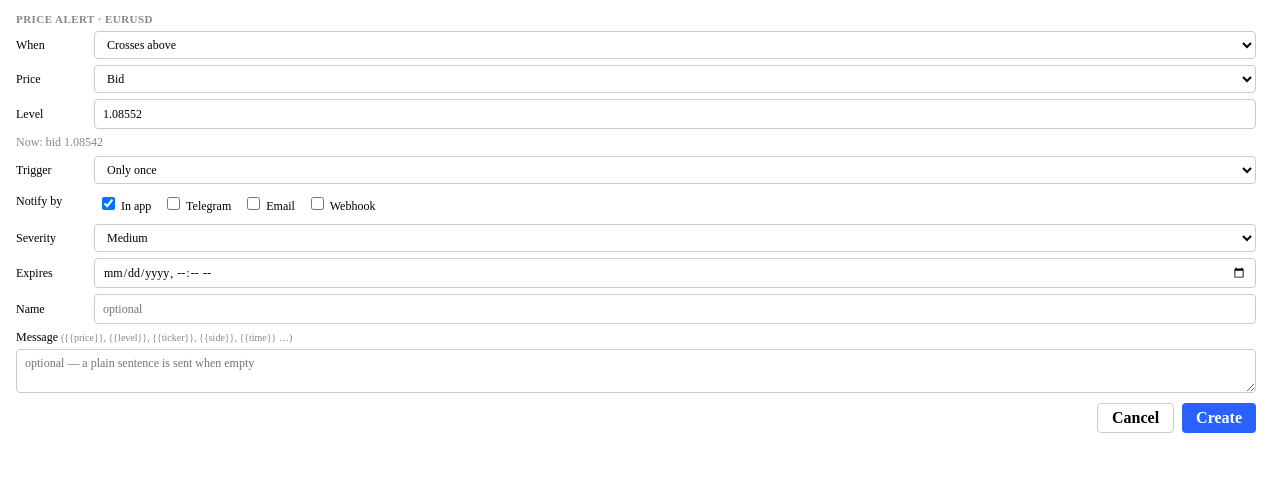
Test: ChartAlertFormComponent › refuses a level the price has already reached, in the engine’s words (SP-02)
This screenshot has width=1273, height=483.
Replace the text in the number field with test id "caf-level" with "1.0854". click: x=675, y=114
box: [94,99,1256,129]
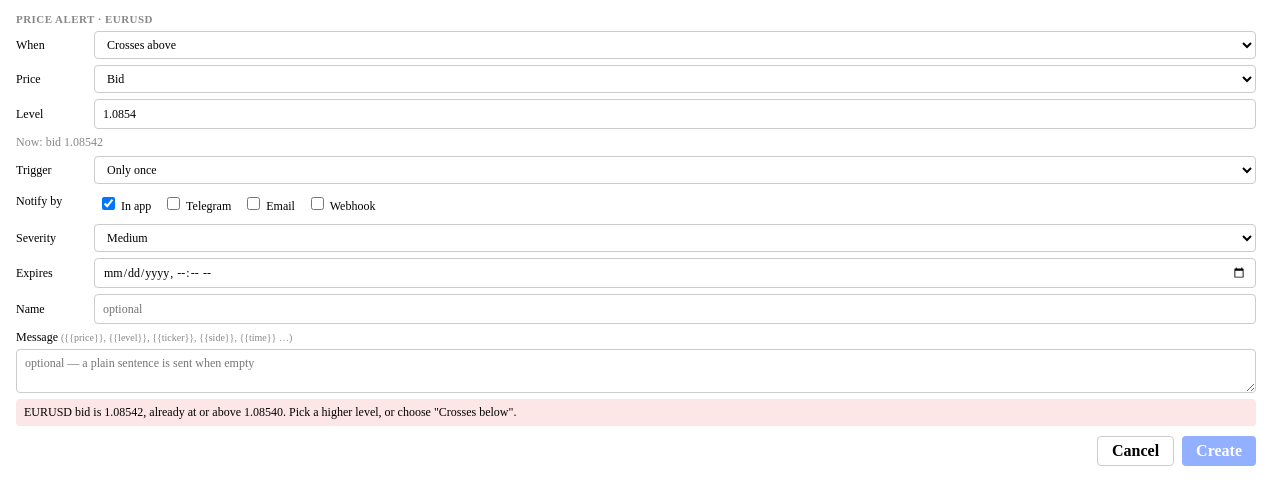
Check: the message with test id "caf-problem" shows "EURUSD bid is 1.08542, already at or above 1.08540", box [24,405,516,419]
